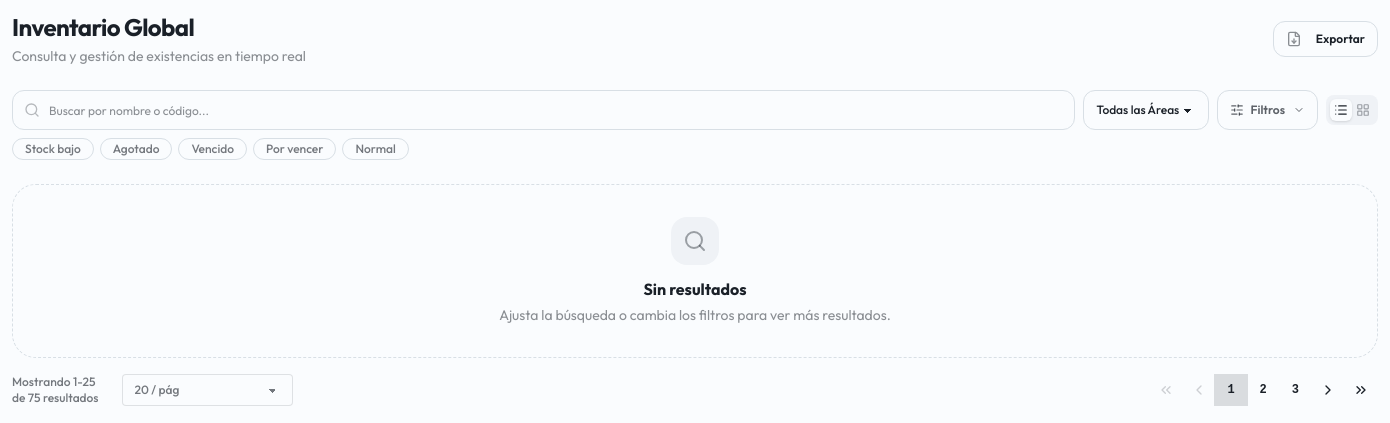
Scenario: StockPage pagination › requests and displays each selected page
Expected: the text "Mostrando 1-25 de 75 resultados" is shown, [12, 374, 106, 406]
Click the button named "Página siguiente" at coordinates (1328, 390), box [1311, 374, 1345, 406]
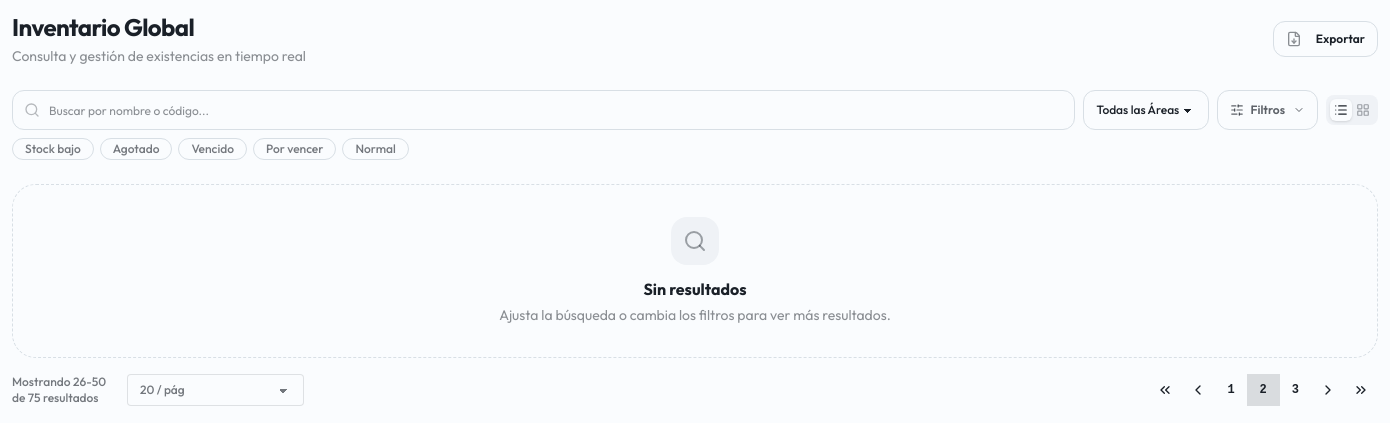
Now the text "Mostrando 26-50 de 75 resultados" is shown, box [12, 374, 111, 406]
